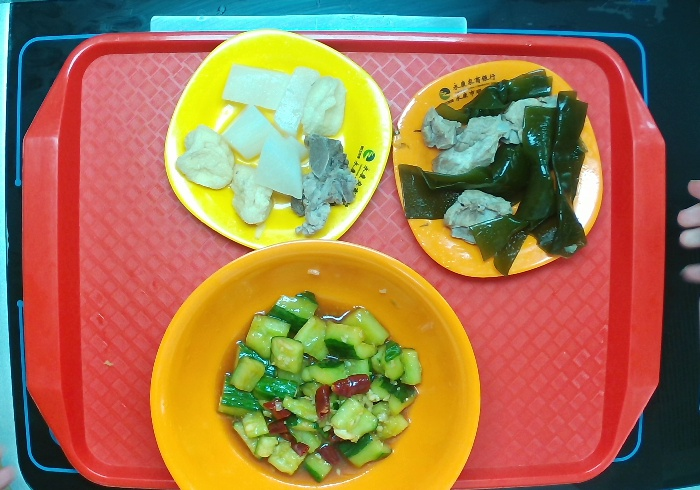YKMZ-Huang_Se_Fang_Die: (163, 30, 395, 250)
YKMZ-Ju_Se_Fang_Die: (389, 59, 607, 277)
YKMZ-Ju_Se_Tang_Wan: (147, 237, 481, 490)
